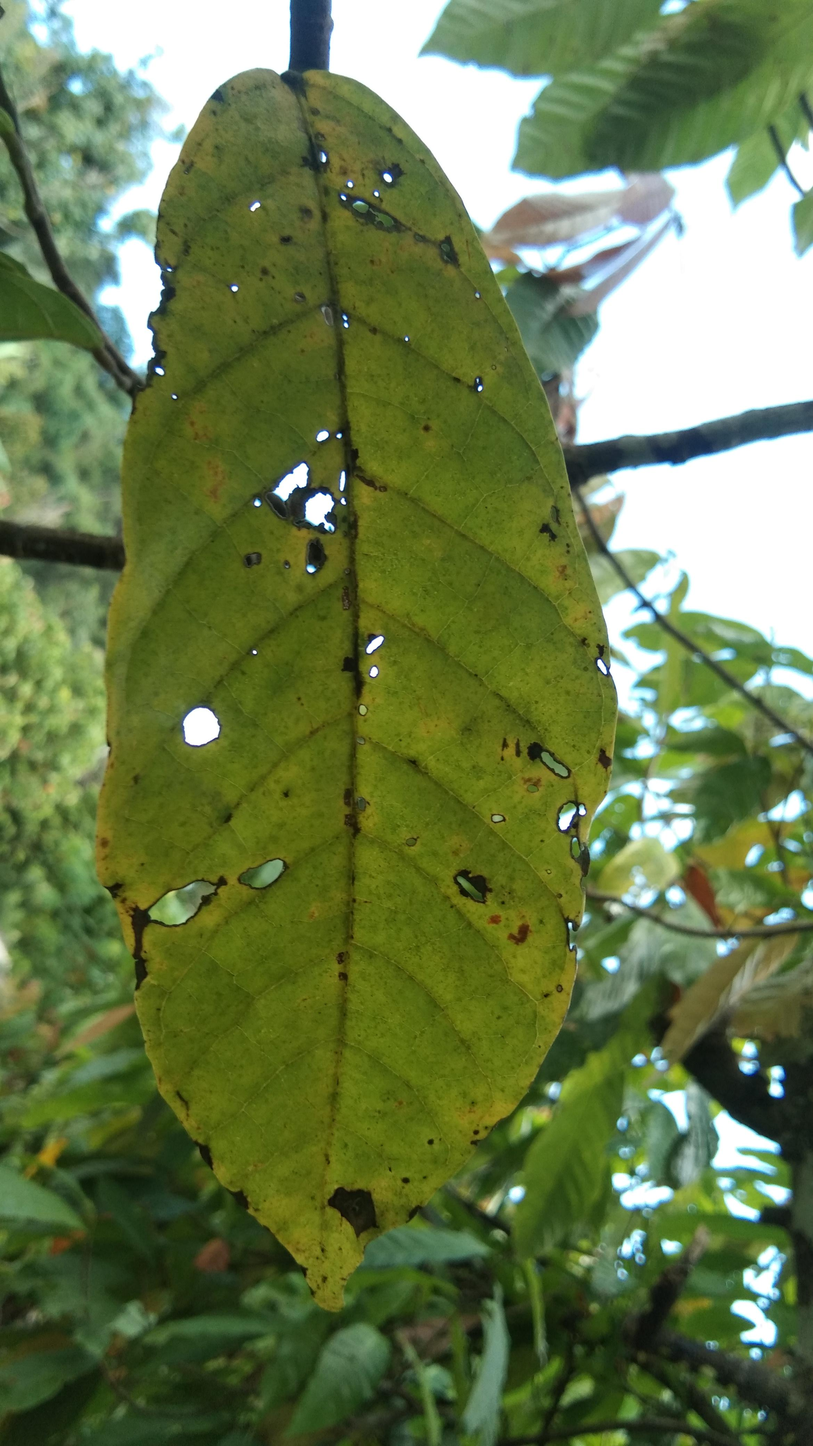deficiencia_potasio: (104, 66, 618, 1300)
